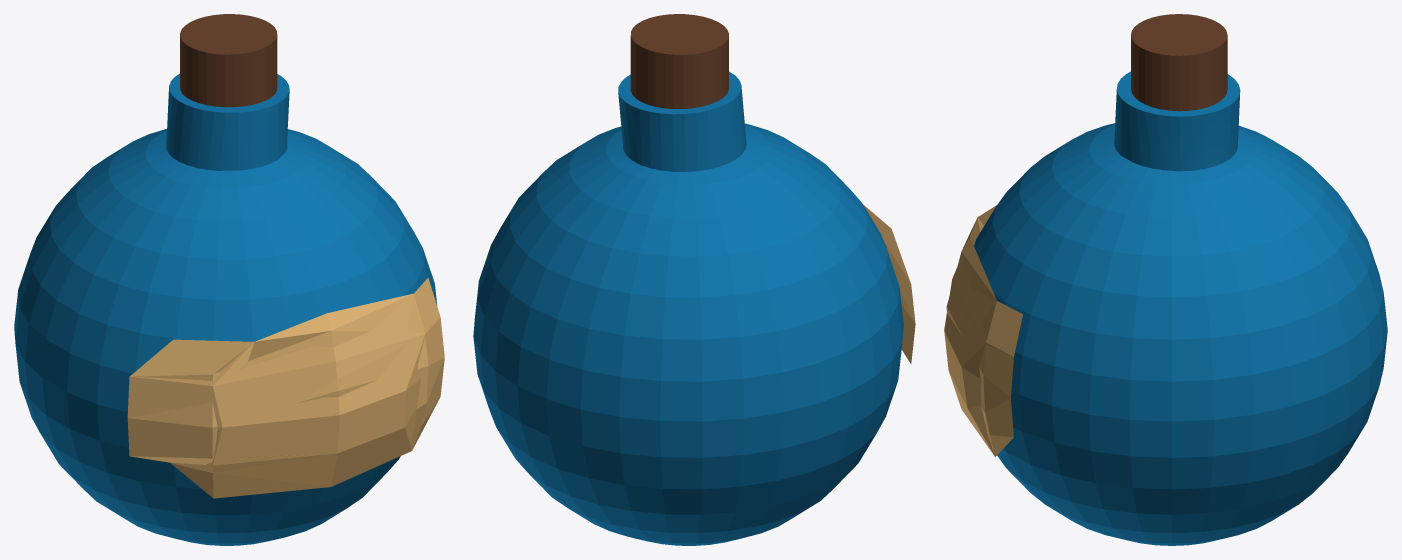
The model's file is GreatPotionBottleBLUE.fbx.
3 views of the same model, side by side, from view 1: azimuth 30°, elevation 25°; view 2: azimuth 150°, elevation 25°; view 3: azimuth 270°, elevation 25° (orthographic).
Parts seen in each view (by area): view 1: Sphere, Plane, Cylinder.001, Cylinder; view 2: Sphere, Cylinder.001, Cylinder, Plane; view 3: Sphere, Plane, Cylinder.001, Cylinder.
Part boxes in pixels (box(x1,y1,x2,y2)): Sphere: box(14, 129, 437, 545); Plane: box(127, 278, 444, 498); Cylinder.001: box(180, 14, 277, 107); Cylinder: box(166, 73, 289, 170); Sphere: box(473, 123, 903, 545); Cylinder.001: box(630, 14, 728, 108); Cylinder: box(618, 71, 746, 171); Plane: box(863, 204, 915, 364); Sphere: box(974, 123, 1387, 545); Plane: box(944, 205, 1022, 457); Cylinder.001: box(1131, 14, 1227, 111); Cylinder: box(1114, 71, 1240, 171).
Size of the model in its own units: 327 by 413 by 336.
